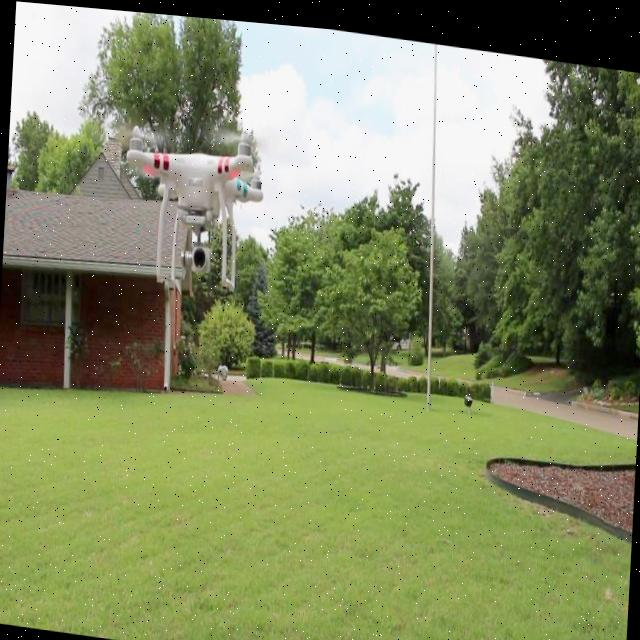drone: (110, 113, 268, 297)
